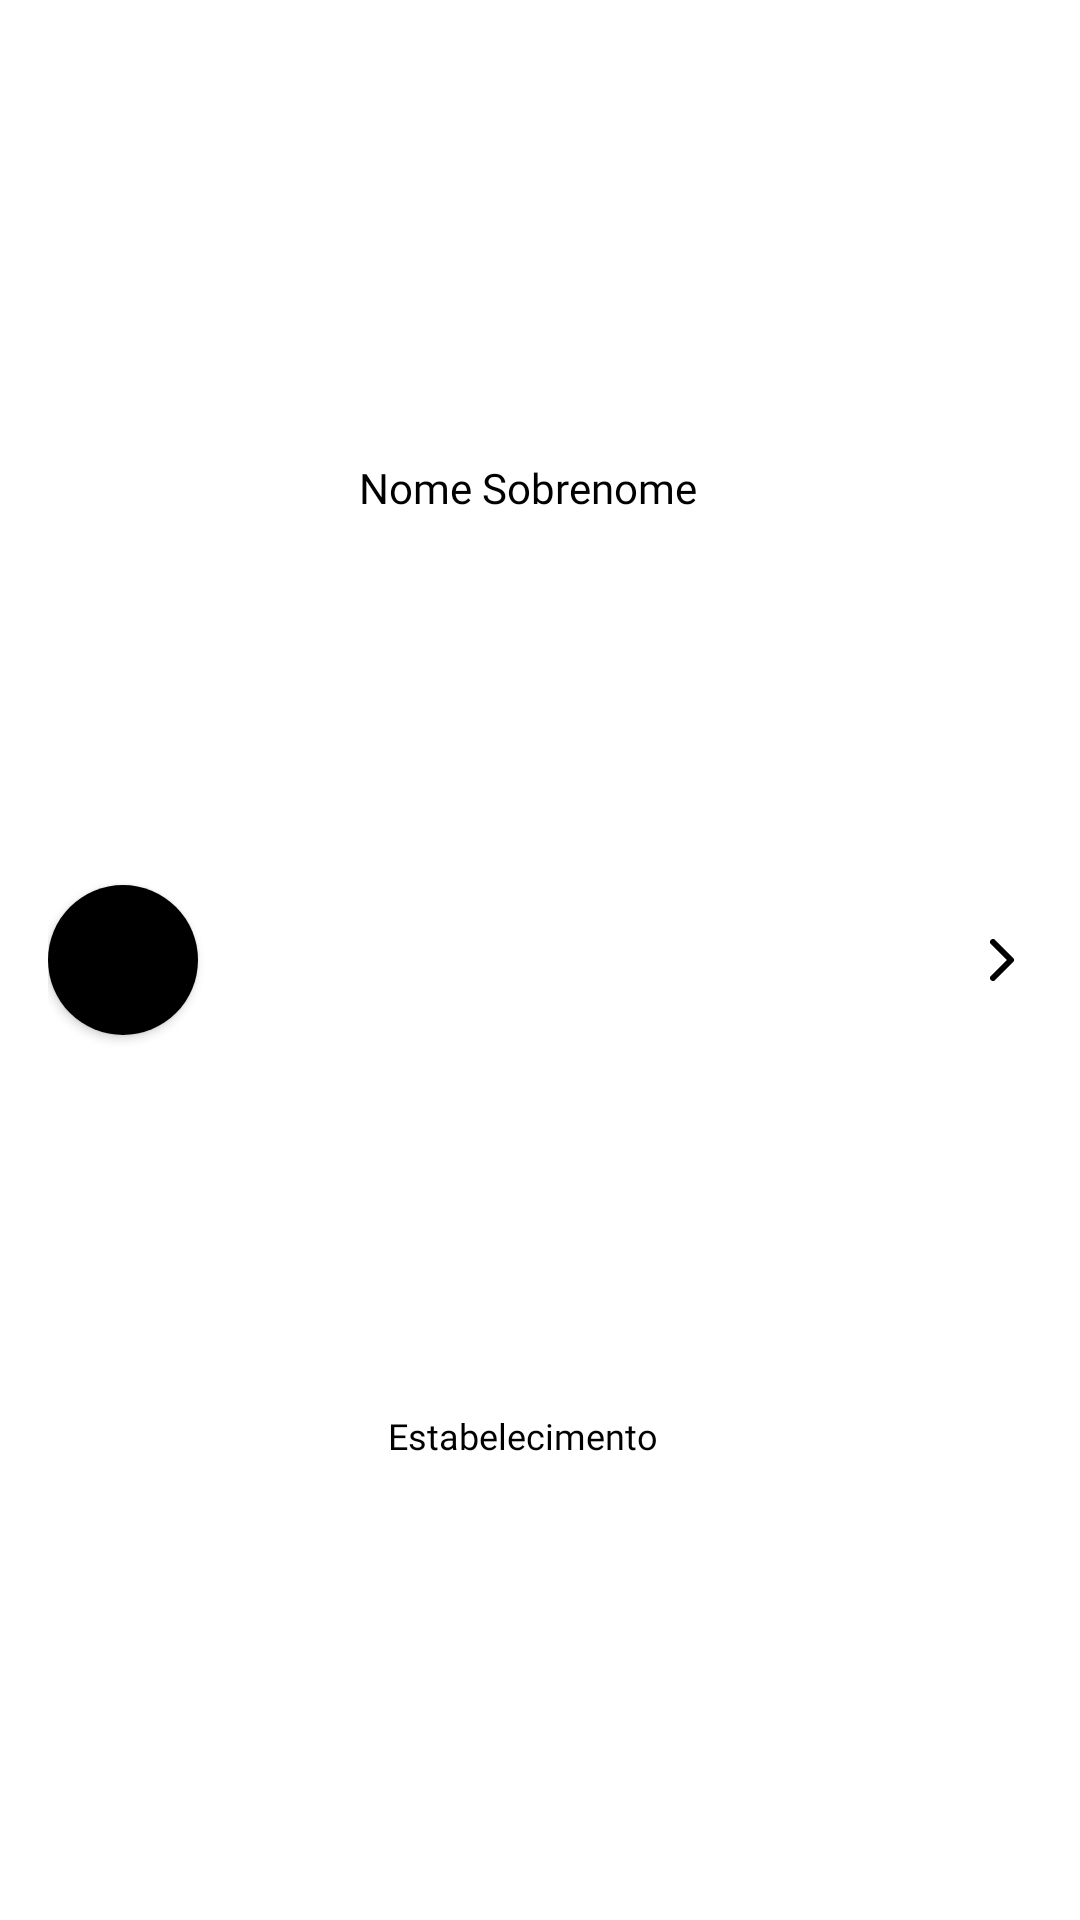

Named icons in this screenshot (1080*1920) and their centers, [x,y]:
arrow: [1002,960]
